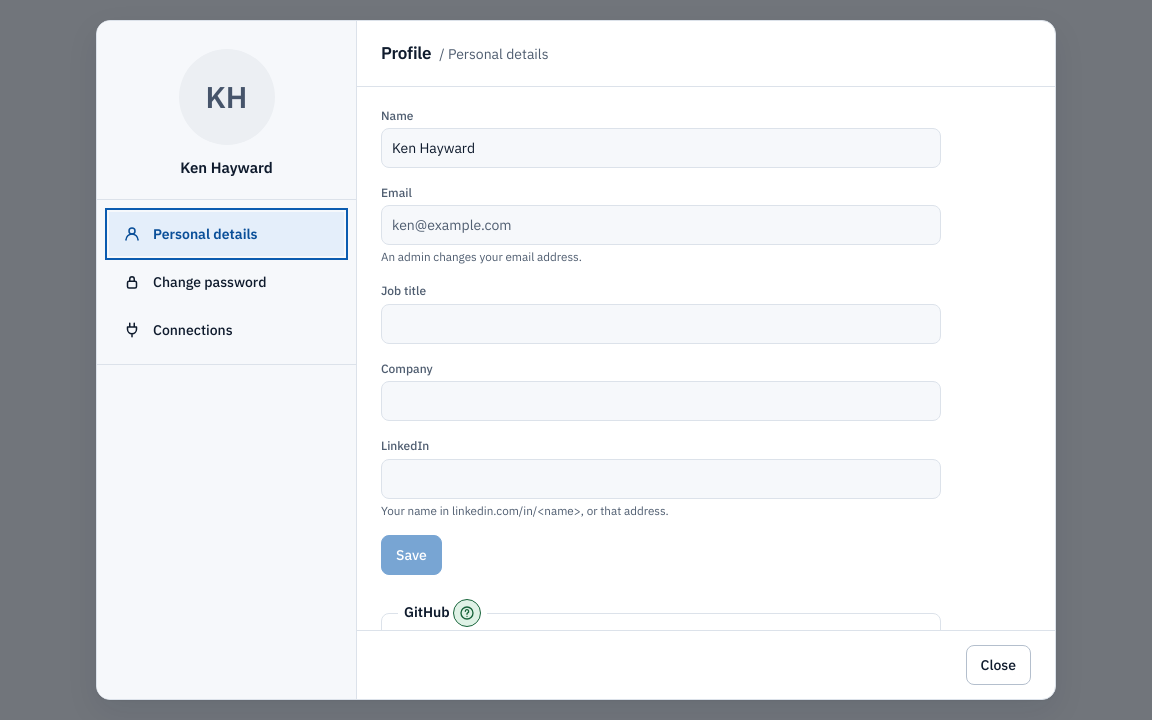
Test: Personal details › keeps a refusal beside the form
Type "Acme" into the field labelled "Company" at point(661, 401), box top-left (381, 381), bottom-right (941, 421)
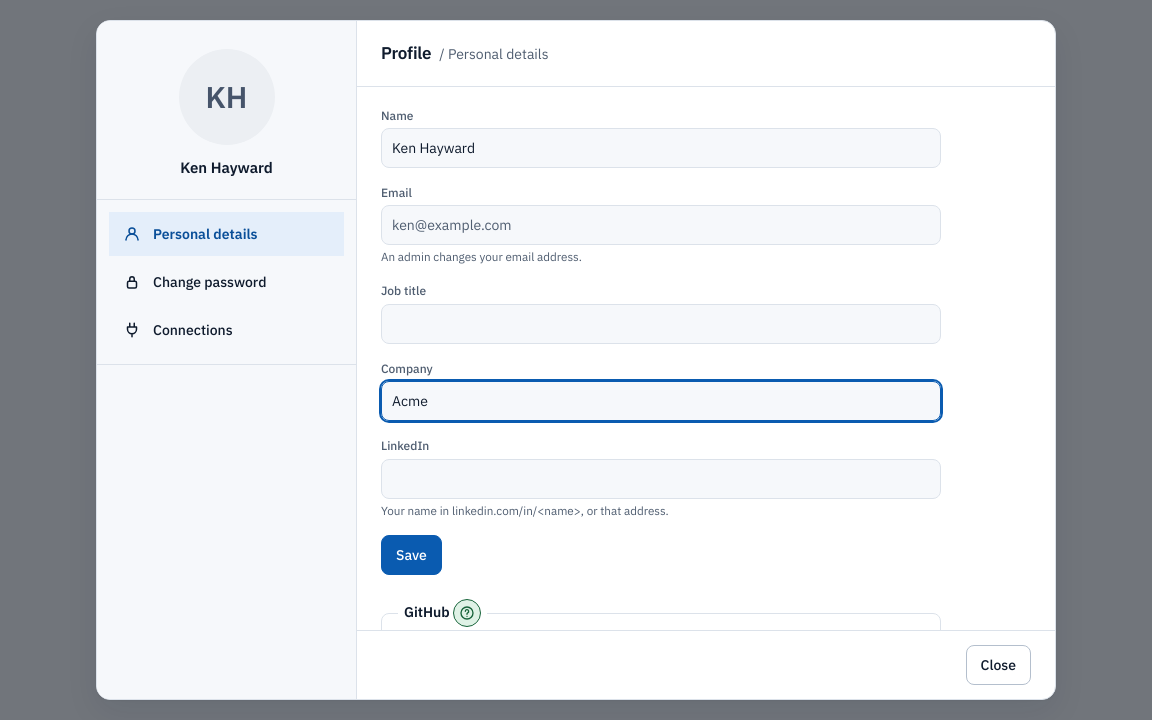
Click the button "Save" at point(411, 555), box top-left (381, 535), bottom-right (442, 575)
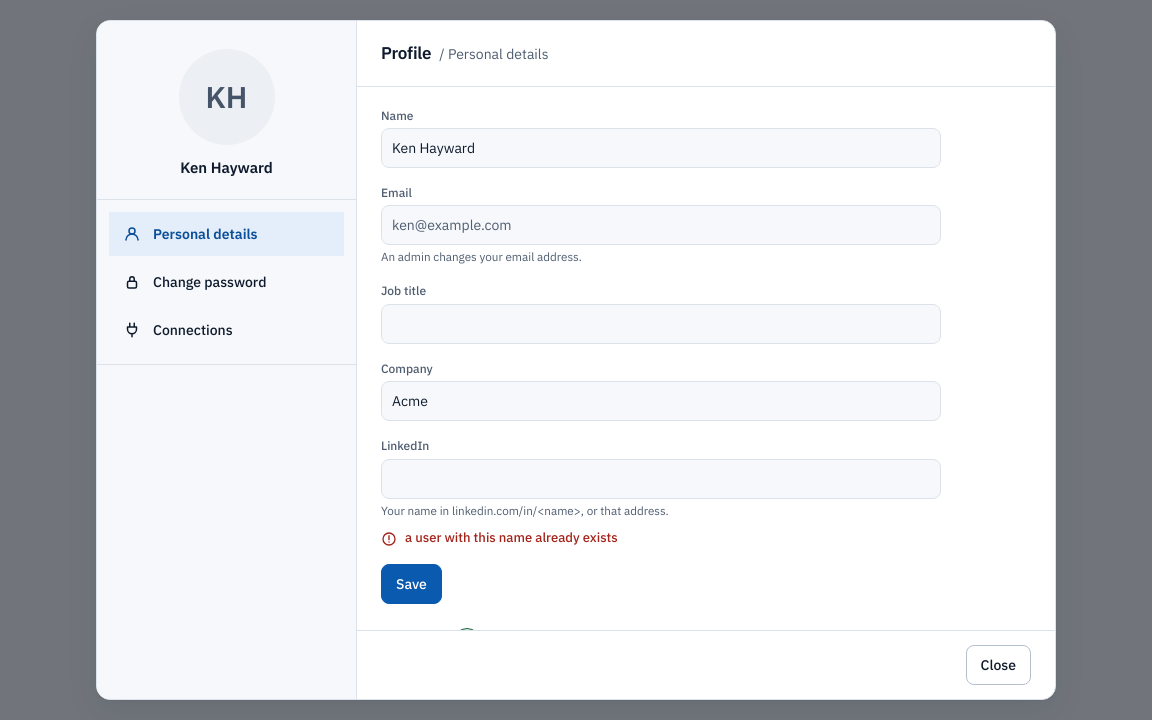
Expected: the message reads "a user with this name already exists", top-left (405, 529), bottom-right (618, 546)
